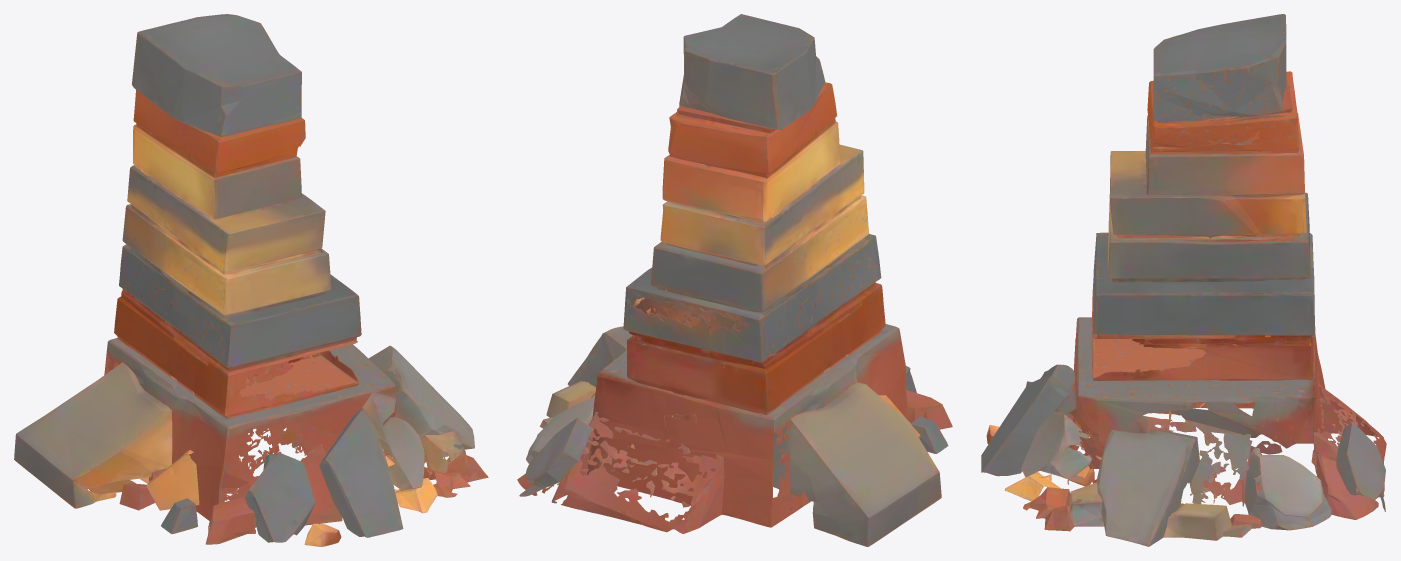
Rendered from rock-tall.glb.
3 renders of one model, left to right at view 1: azimuth 30°, elevation 25°; view 2: azimuth 150°, elevation 25°; view 3: azimuth 270°, elevation 25°, orthographic. The views are drawn at different scales.
Parts seen in each view (by area): view 1: geometry_0; view 2: geometry_0; view 3: geometry_0.
Part boxes in pixels (x1,y1,x2,y2): geometry_0: (14, 14, 488, 546); geometry_0: (517, 14, 952, 546); geometry_0: (981, 14, 1386, 546).
Bounding box in the file's own units: 0.95 × 1 × 0.8969.
1 material, 1 textured.
